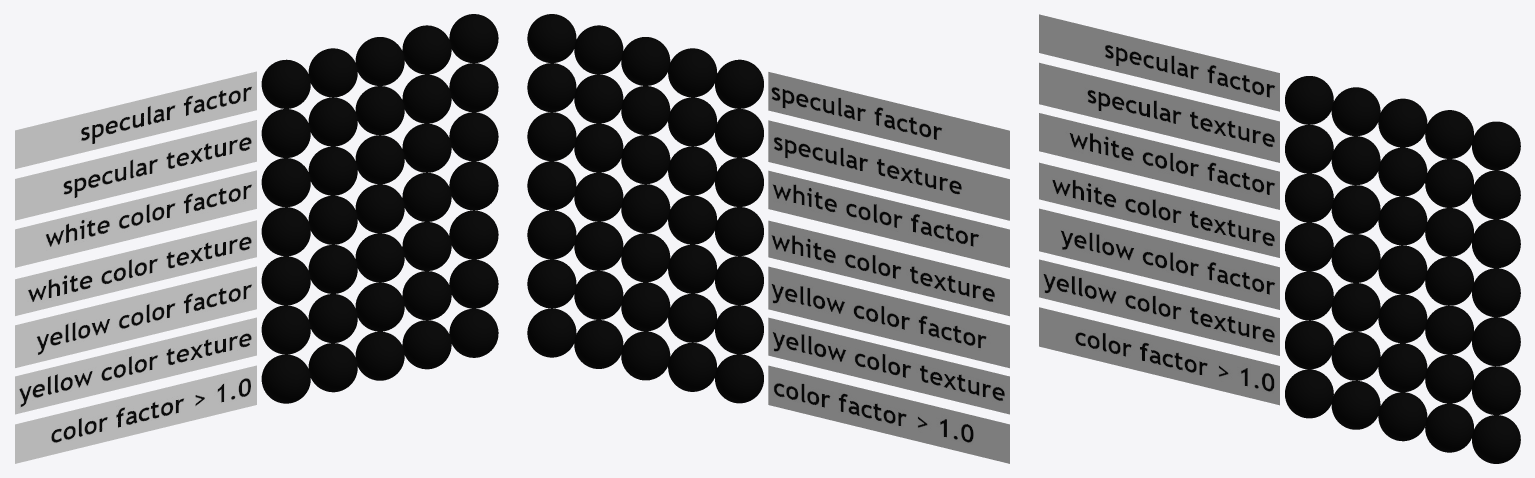
File: specular_test.glb
3 views of the same model, side by side, from view 1: azimuth 30°, elevation 25°; view 2: azimuth 150°, elevation 25°; view 3: azimuth 330°, elevation 25° (orthographic).
Parts seen in each view (by area): view 1: Labels, 4_whiteColorTexture, 2_specularTexture, 6_yellowColorTexture, 7.1_HDR_colorFactor, 5.1_yellowColorFactor, 1.2_specularFactor, 1.4_specularFactor, 3.1_whiteColorFactor, 3.3_whiteColorFactor, 3.2_whiteColorFactor, 3.5_whiteColorFactor (+12 smaller); view 2: Labels, 6_yellowColorTexture, 4_whiteColorTexture, 2_specularTexture, 7.3_HDR_colorFactor, 1.4_specularFactor, 5.5_yellowColorFactor, 7.5_HDR_colorFactor, 3.4_whiteColorFactor, 7.1_HDR_colorFactor, 3.5_whiteColorFactor, 1.2_specularFactor (+12 smaller); view 3: Labels, 6_yellowColorTexture, 4_whiteColorTexture, 2_specularTexture, 1.5_specularFactor, 3.5_whiteColorFactor, 5.1_yellowColorFactor, 5.2_yellowColorFactor, 7.3_HDR_colorFactor, 1.3_specularFactor, 3.3_whiteColorFactor, 1.2_specularFactor (+12 smaller).
Part boxes in pixels (x1=…): Labels: x1=15, y1=71, x2=256, y2=463; 4_whiteColorTexture: x1=261, y1=161, x2=498, y2=256; 2_specularTexture: x1=261, y1=63, x2=498, y2=157; 6_yellowColorTexture: x1=261, y1=259, x2=498, y2=354; 7.1_HDR_colorFactor: x1=261, y1=354, x2=310, y2=403; 5.1_yellowColorFactor: x1=261, y1=256, x2=310, y2=305; 1.2_specularFactor: x1=308, y1=48, x2=357, y2=97; 1.4_specularFactor: x1=402, y1=25, x2=451, y2=74; 3.1_whiteColorFactor: x1=261, y1=158, x2=310, y2=207; 3.3_whiteColorFactor: x1=355, y1=135, x2=404, y2=184; 3.2_whiteColorFactor: x1=308, y1=146, x2=357, y2=195; 3.5_whiteColorFactor: x1=449, y1=112, x2=498, y2=161; Labels: x1=768, y1=72, x2=1009, y2=463; 6_yellowColorTexture: x1=527, y1=259, x2=763, y2=354; 4_whiteColorTexture: x1=527, y1=161, x2=763, y2=255; 2_specularTexture: x1=527, y1=63, x2=763, y2=157; 7.3_HDR_colorFactor: x1=621, y1=331, x2=670, y2=380; 1.4_specularFactor: x1=574, y1=25, x2=623, y2=74; 5.5_yellowColorFactor: x1=527, y1=210, x2=576, y2=259; 7.5_HDR_colorFactor: x1=527, y1=308, x2=576, y2=357; 3.4_whiteColorFactor: x1=574, y1=123, x2=623, y2=172; 7.1_HDR_colorFactor: x1=715, y1=354, x2=763, y2=403; 3.5_whiteColorFactor: x1=527, y1=112, x2=576, y2=161; 1.2_specularFactor: x1=668, y1=48, x2=717, y2=97; Labels: x1=1039, y1=14, x2=1279, y2=405; 6_yellowColorTexture: x1=1285, y1=320, x2=1520, y2=414; 4_whiteColorTexture: x1=1285, y1=222, x2=1520, y2=317; 2_specularTexture: x1=1285, y1=124, x2=1520, y2=219; 1.5_specularFactor: x1=1472, y1=121, x2=1520, y2=170; 3.5_whiteColorFactor: x1=1472, y1=219, x2=1520, y2=268; 5.1_yellowColorFactor: x1=1285, y1=271, x2=1333, y2=320; 5.2_yellowColorFactor: x1=1331, y1=283, x2=1380, y2=331; 7.3_HDR_colorFactor: x1=1378, y1=392, x2=1427, y2=441; 1.3_specularFactor: x1=1378, y1=98, x2=1427, y2=147; 3.3_whiteColorFactor: x1=1378, y1=196, x2=1427, y2=245; 1.2_specularFactor: x1=1331, y1=87, x2=1380, y2=136.
Size of the model in its own units: 1.13 by 0.76 by 0.1.
Materials: 24 (1 with a texture image).
